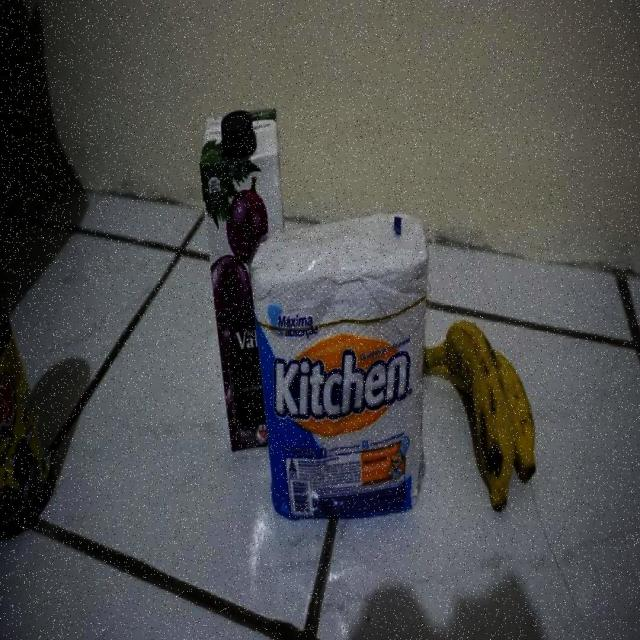Banana: (427, 318, 538, 511)
ChocolatePowder: (0, 274, 55, 541)
Napkin: (246, 207, 433, 522)
